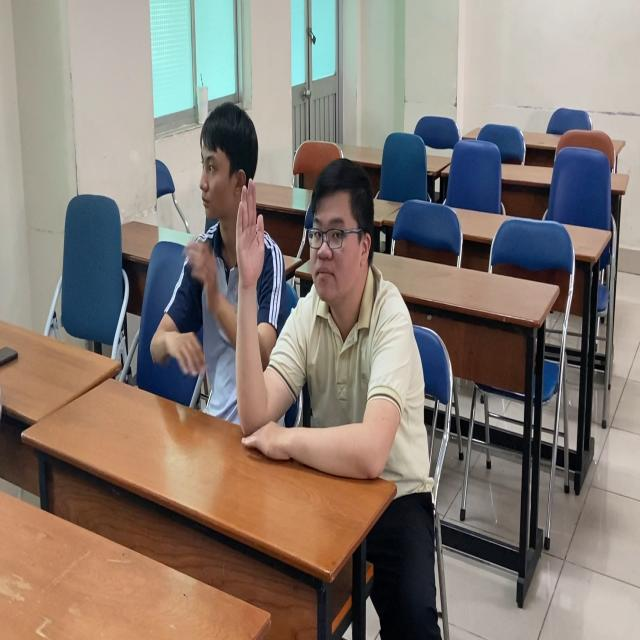raise_hand: (236, 149, 409, 486)
